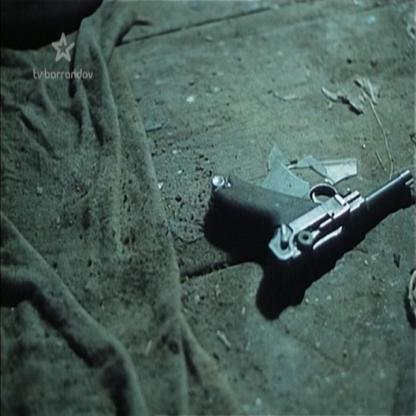gun: (193, 108, 416, 297)
